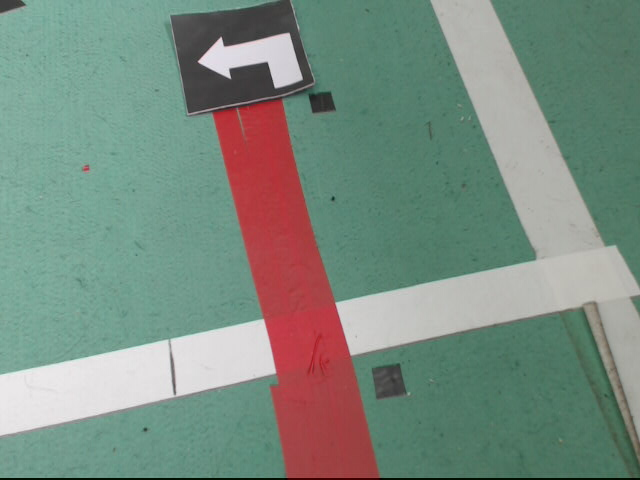left: (167, 2, 319, 116)
